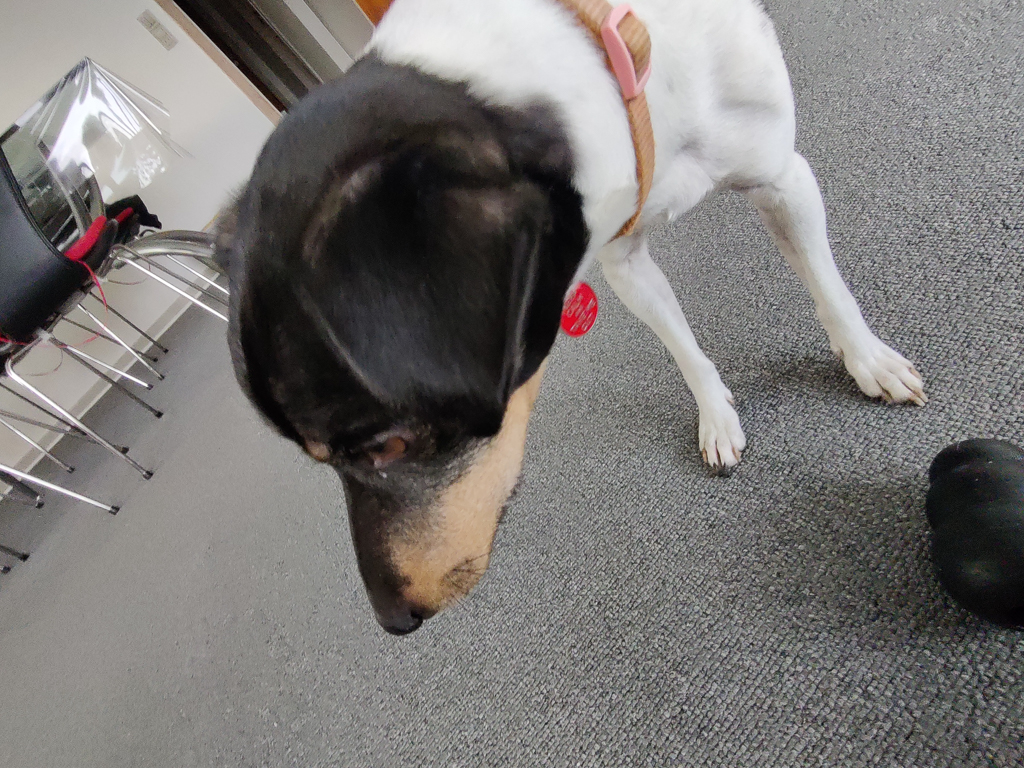Dog: (184, 0, 941, 685)
